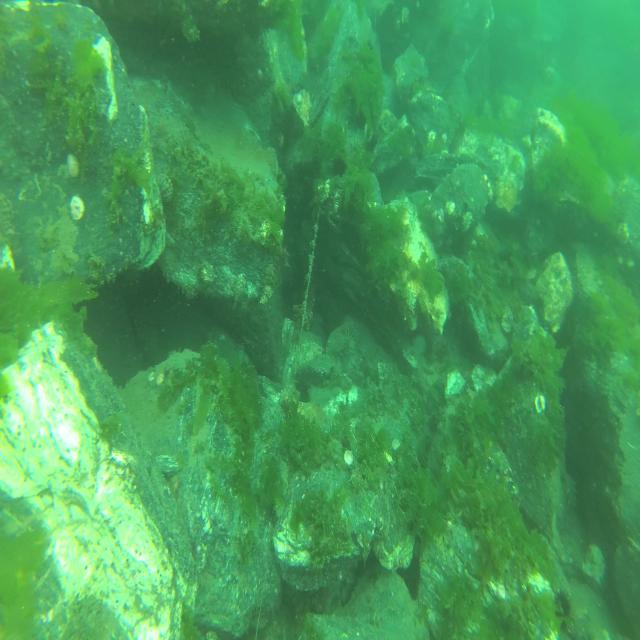echinus: (556, 587, 572, 619), (333, 157, 348, 177)
